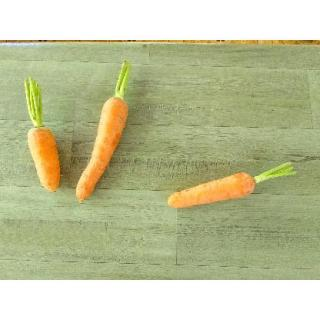Wortel: (13, 65, 303, 220)
